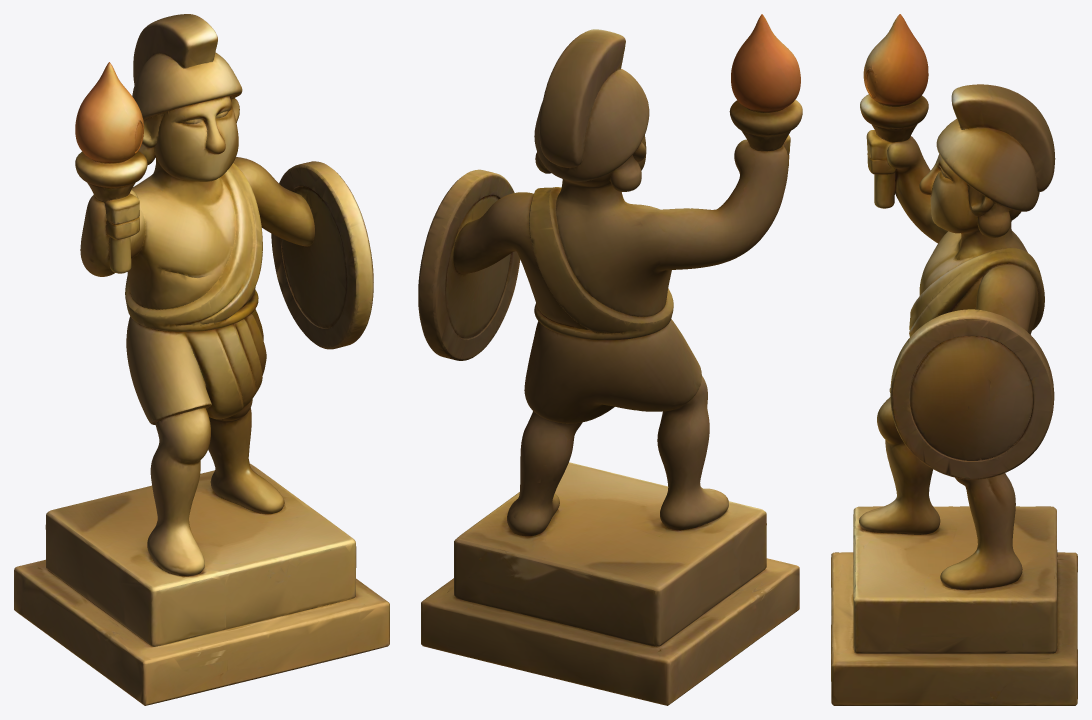
File: colossus.glb
The picture shows the model from 3 angles, left to right: view 1: azimuth 30°, elevation 25°; view 2: azimuth 150°, elevation 25°; view 3: azimuth 270°, elevation 25°; orthographic projection. The views are drawn at different scales.
Parts seen in each view (by area): view 1: model; view 2: model; view 3: model.
Boxes of the visible parts, <box> form: model: <box>14,14,389,705</box>; model: <box>418,14,802,705</box>; model: <box>831,14,1077,705</box>.
Bounding box in the file's own units: 0.9425 × 1.83 × 0.7063.
1 material, 1 textured.
